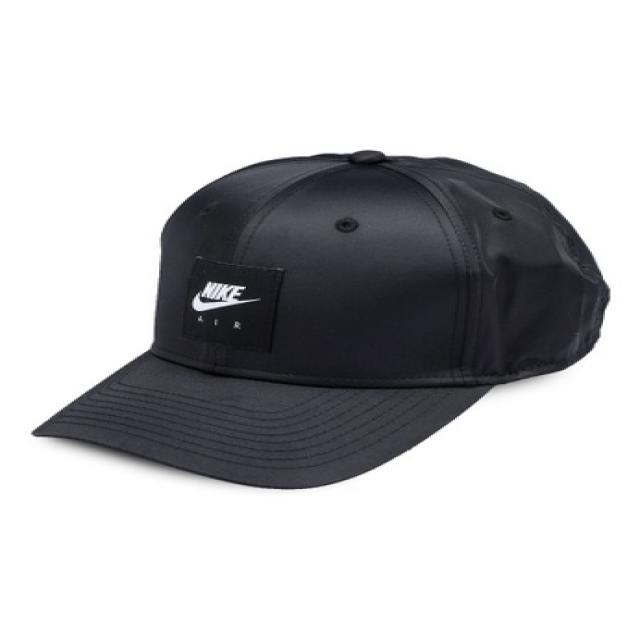mask: (24, 132, 620, 530)
